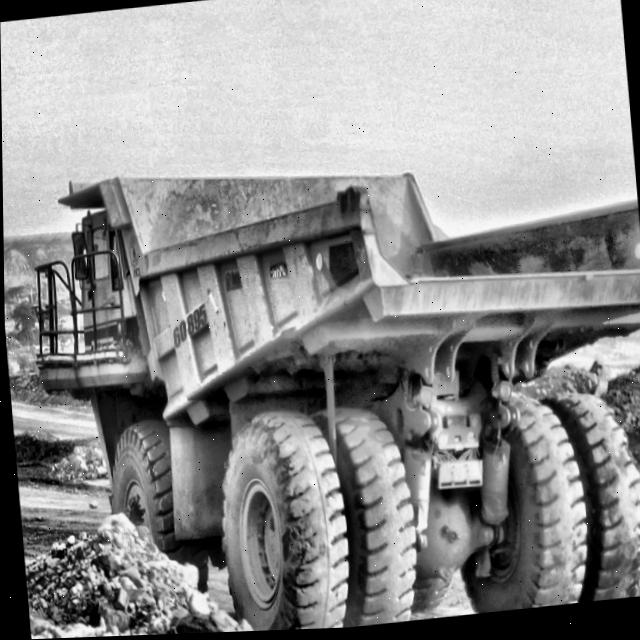dump_truck: (36, 177, 640, 633)
